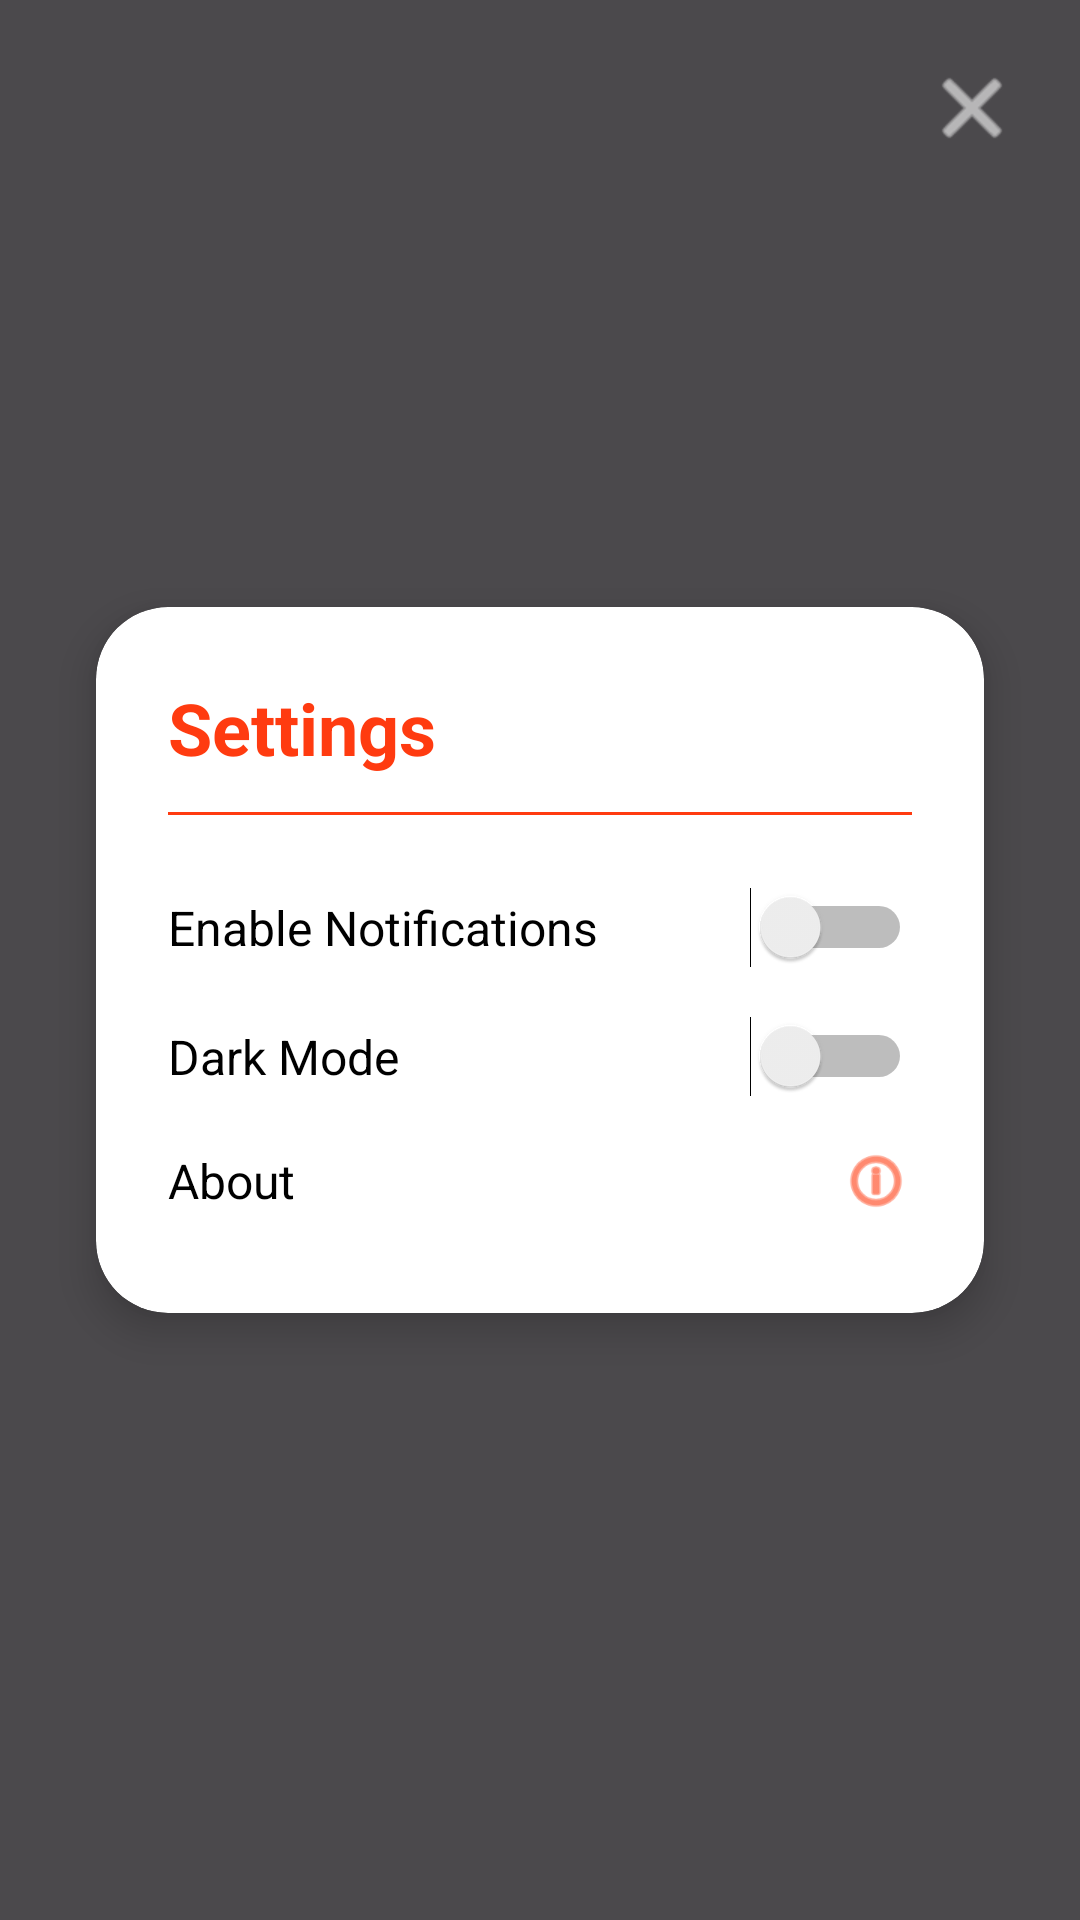

Icon bounding boxes for this 1080 × 1920 phone screenshot, format rect(x1, y1, x2, y2):
Close Settings: rect(942, 78, 1002, 138)
